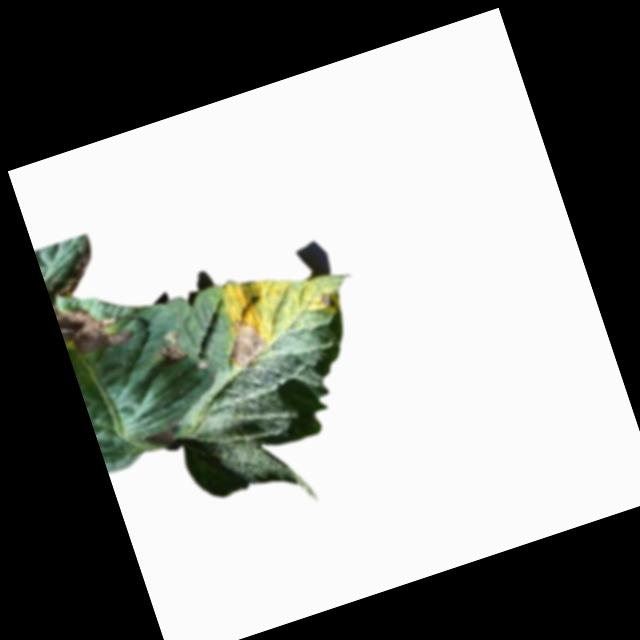Early_blight: (38, 243, 136, 363), (215, 305, 276, 373), (151, 327, 190, 371), (314, 284, 338, 311)
